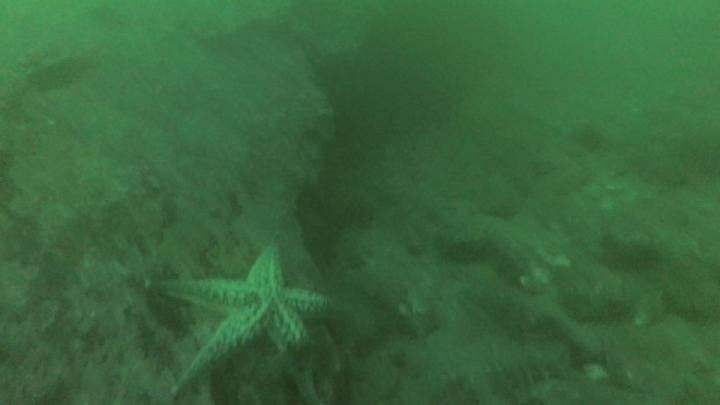holothurian: (486, 346, 574, 392)
starfish: (154, 237, 335, 405)
